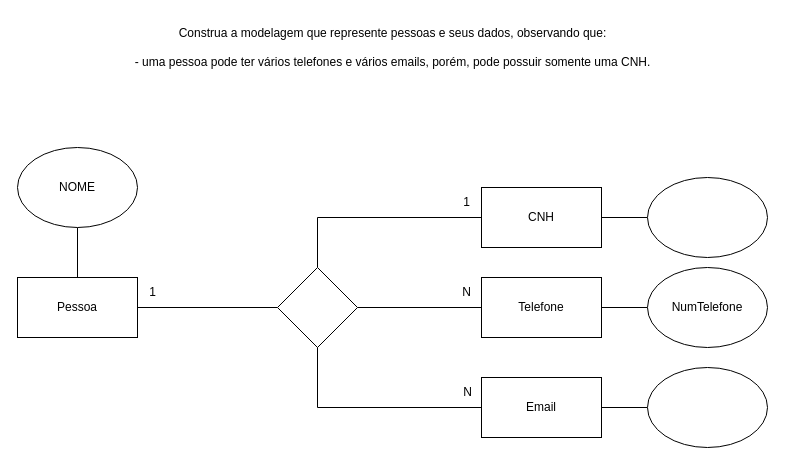
Some shapes in this 785 by 465 pixel diagram are drawn without their labels. The shapes that lost their labels are listed below. From the top down, each one's box as (x1, y1, x2, y2) in pixels, then its label:
(646, 176, 768, 258): NumCPF
(276, 266, 358, 348): Possui
(646, 366, 768, 448): EndEmail
